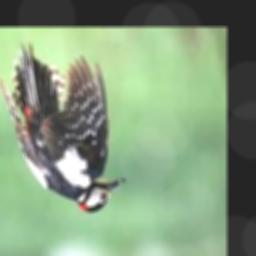Woodpecker: (0, 41, 127, 213)
